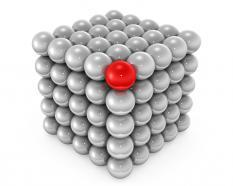Red_Ball: (104, 60, 135, 92)
